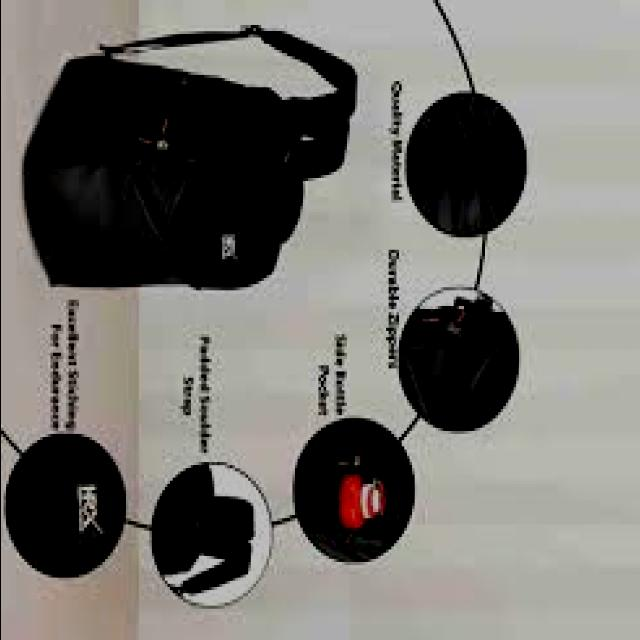backpack: (24, 23, 360, 291)
